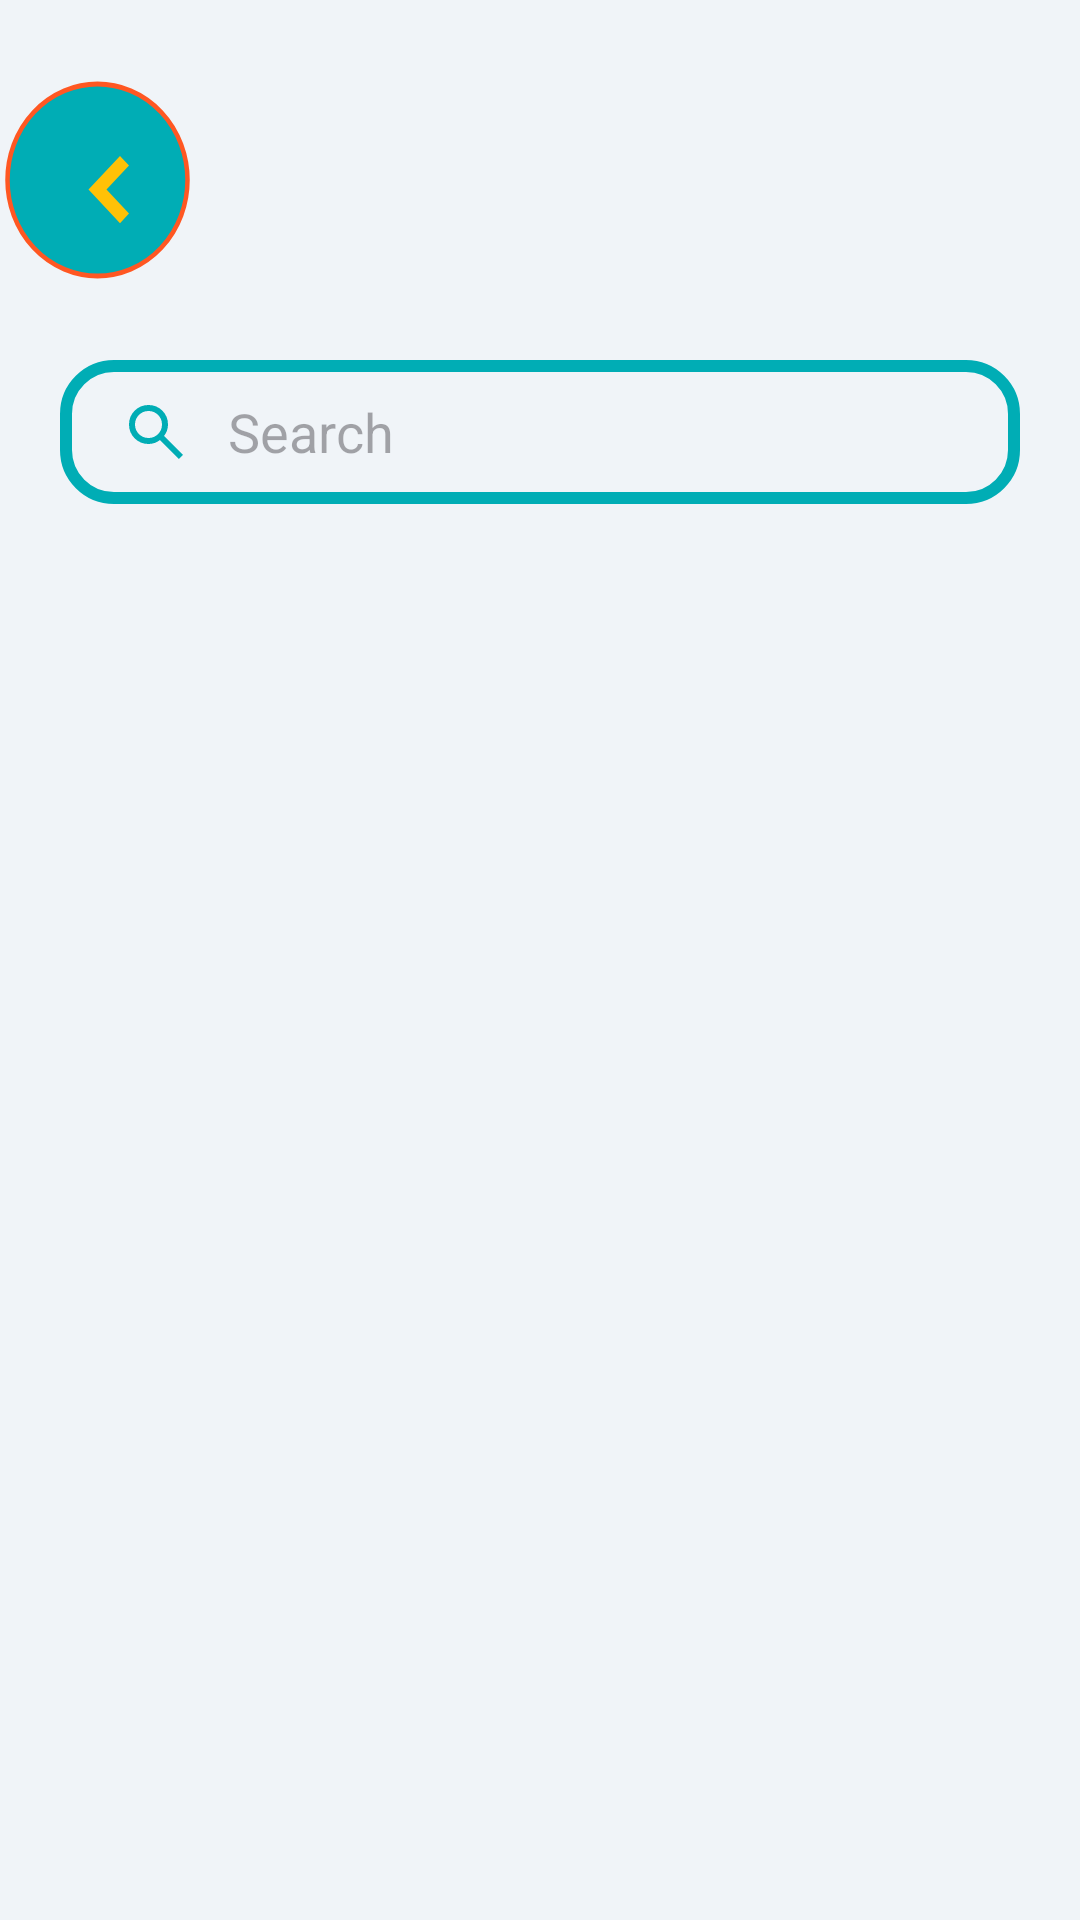

Icons on this 1080px x 1920px Android screen, each with its box as (x1, y1, x2, y2):
back: (5, 81, 190, 279)
